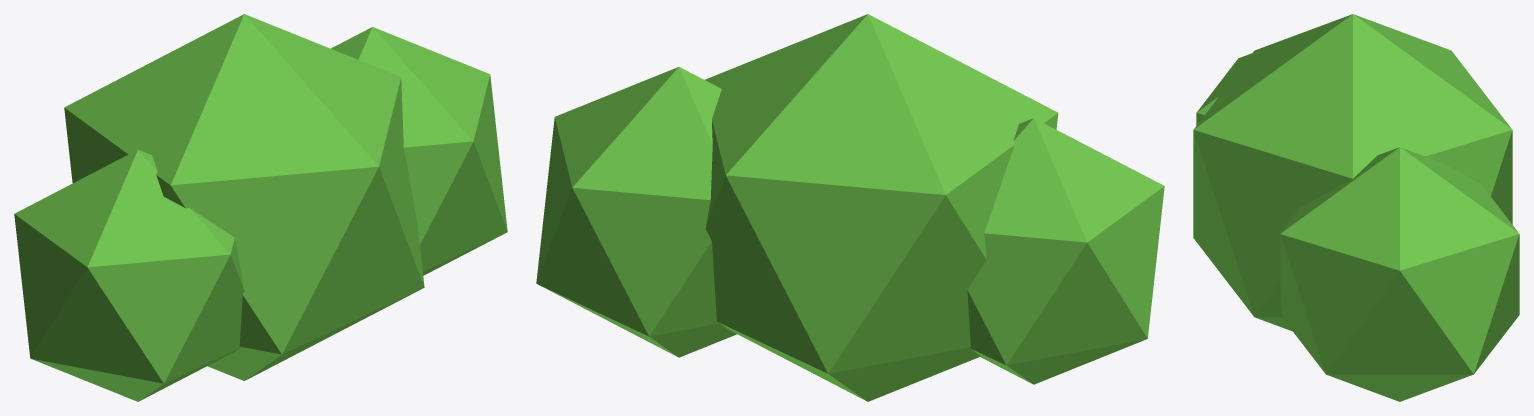
File: bush.glb
The picture shows the model from 3 angles, left to right: view 1: azimuth 30°, elevation 25°; view 2: azimuth 150°, elevation 25°; view 3: azimuth 270°, elevation 25°; orthographic projection. The views are drawn at different scales.
Parts seen in each view (by area): view 1: Canopy.002; view 2: Canopy.002; view 3: Canopy.002.
Boxes of the visible parts, x1,y1,x2,y2 form: Canopy.002: (14,14,507,401); Canopy.002: (536,14,1164,401); Canopy.002: (1193,14,1519,401).
Bounding box in the file's own units: 2.33 × 1.6 × 1.39.
